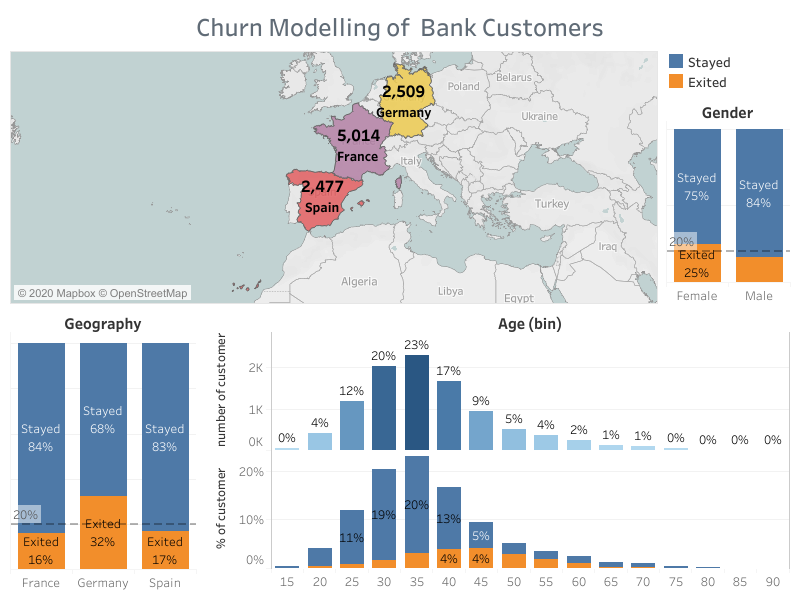

The dashboard page shown, as its layout file describes it:
{"tool":"tableau","page":{"name":"Dashboard 1","canvas":[800,600],"ordinal":0},"visuals":[{"type":"worksheet","box":[0,0,800,600]},{"type":"worksheet","param":"vert","box":[6.3,5,787.4,590]},{"type":"worksheet","box":[6.3,5,787.4,41]},{"type":"worksheet","param":"horz","box":[8,8,784,584]},{"type":"worksheet","box":[8,8,784,584]},{"type":"worksheet","param":"horz","box":[6.3,46,787.4,262]},{"type":"worksheet","title":"map","mark":"Multipolygon","box":[6.3,46,656,262]},{"type":"worksheet","param":"vert","box":[662.3,46,131.4,262]},{"type":"worksheet","title":"Gender","mark":"Automatic","cols":["Gender"],"param":"[federated.08lnlqj0qsnxxw14g2aca0s2jolb].[none:Exited:ok]","box":[662.3,46,131.4,50]},{"type":"worksheet","title":"Gender","mark":"Automatic","cols":["Gender"],"box":[662.3,96,131.4,212]},{"type":"worksheet","param":"horz","box":[6.3,308,787.4,287]},{"type":"worksheet","title":"Geography","mark":"Automatic","cols":["Geography"],"box":[6.3,308,194,287]},{"type":"worksheet","title":"Age","mark":"Automatic","rows":["Churn Modelling_6A8887F2D81C465DA1A045E1FA425E85"],"cols":["Age (bin)"],"box":[200.3,308,593.4,287]}]}

Visuals, with their boxes in screenshot pixels (x1, y1, x2, y2), scaled from the page's 800x600 canvas onto the 799x599 screenshot:
worksheet: box(0, 0, 798, 598)
worksheet: box(6, 5, 793, 594)
worksheet: box(6, 5, 793, 46)
worksheet: box(8, 8, 791, 591)
worksheet: box(8, 8, 791, 591)
worksheet: box(6, 46, 793, 307)
"map" worksheet (Multipolygon marks): box(6, 46, 661, 307)
worksheet: box(661, 46, 793, 307)
"Gender" worksheet: box(661, 46, 793, 96)
"Gender" worksheet: box(661, 96, 793, 307)
worksheet: box(6, 307, 793, 594)
"Geography" worksheet: box(6, 307, 200, 594)
"Age" worksheet: box(200, 307, 793, 594)
